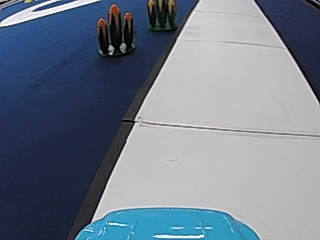corn: (95, 3, 137, 57), (146, 0, 179, 31)
